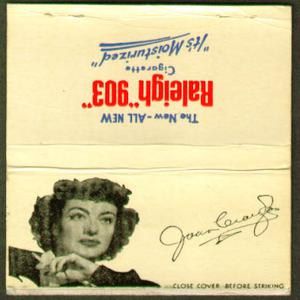cigarette: (33, 253, 58, 281)
